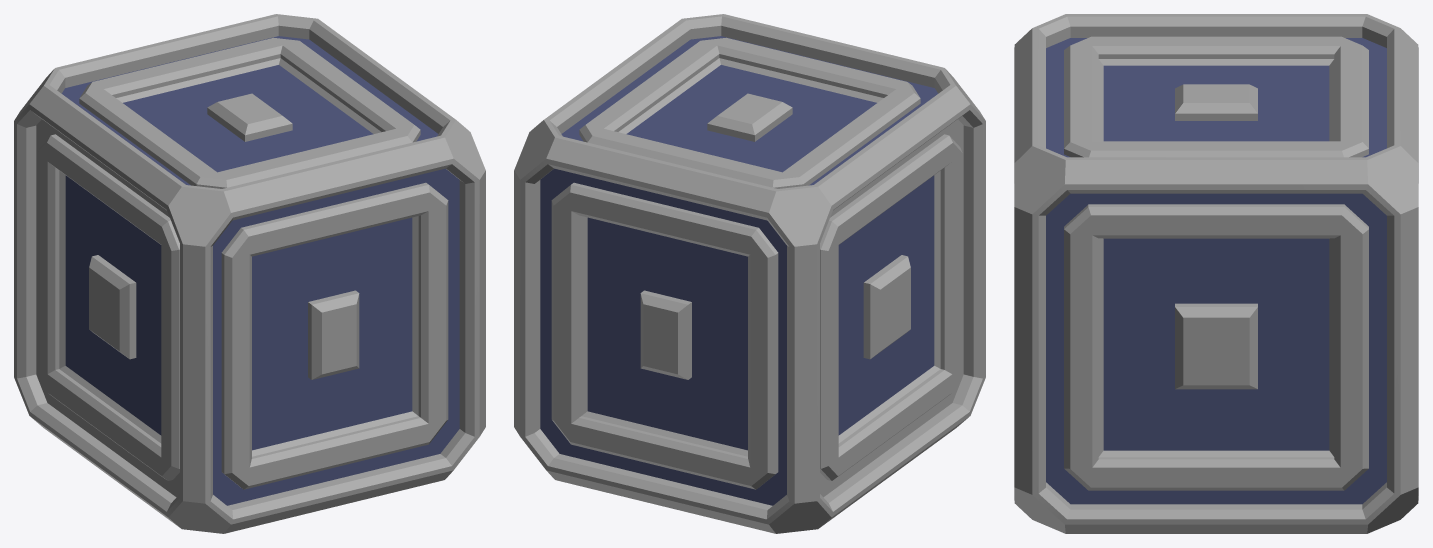
Rendered from box of scrap.fbx.
3 views of the same model, side by side, from view 1: azimuth 30°, elevation 25°; view 2: azimuth 150°, elevation 25°; view 3: azimuth 270°, elevation 25° (orthographic). The views are drawn at different scales.
Parts seen in each view (by area): view 1: pCube39; view 2: pCube39; view 3: pCube39.
Boxes of the visible parts, x1=… form: pCube39: x1=14, y1=14, x2=485, y2=533; pCube39: x1=514, y1=14, x2=985, y2=533; pCube39: x1=1014, y1=14, x2=1418, y2=533.
Bounding box in the file's own units: 38.42 × 41.51 × 40.7.
